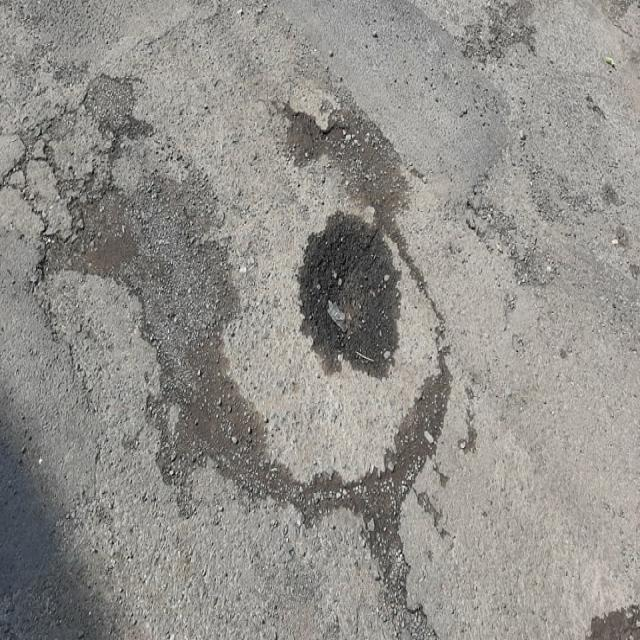Pothole: (19, 70, 266, 494), (281, 205, 418, 399)
